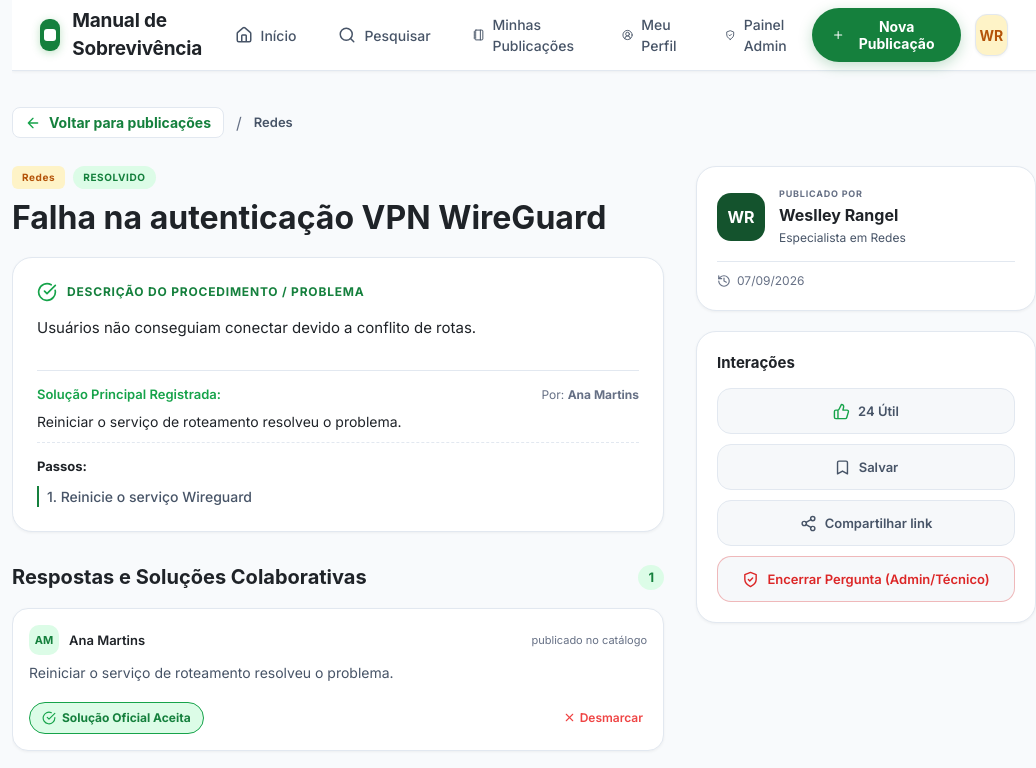
PublicationDetail Page › alterna o botão de Salvo/Salvar
The width and height of the screenshot is (1036, 768).
What coordinates should you click on to do the following:
click the button "Salvar"
I would click on:
 (866, 467)
Its box is [717,444,1015,490].
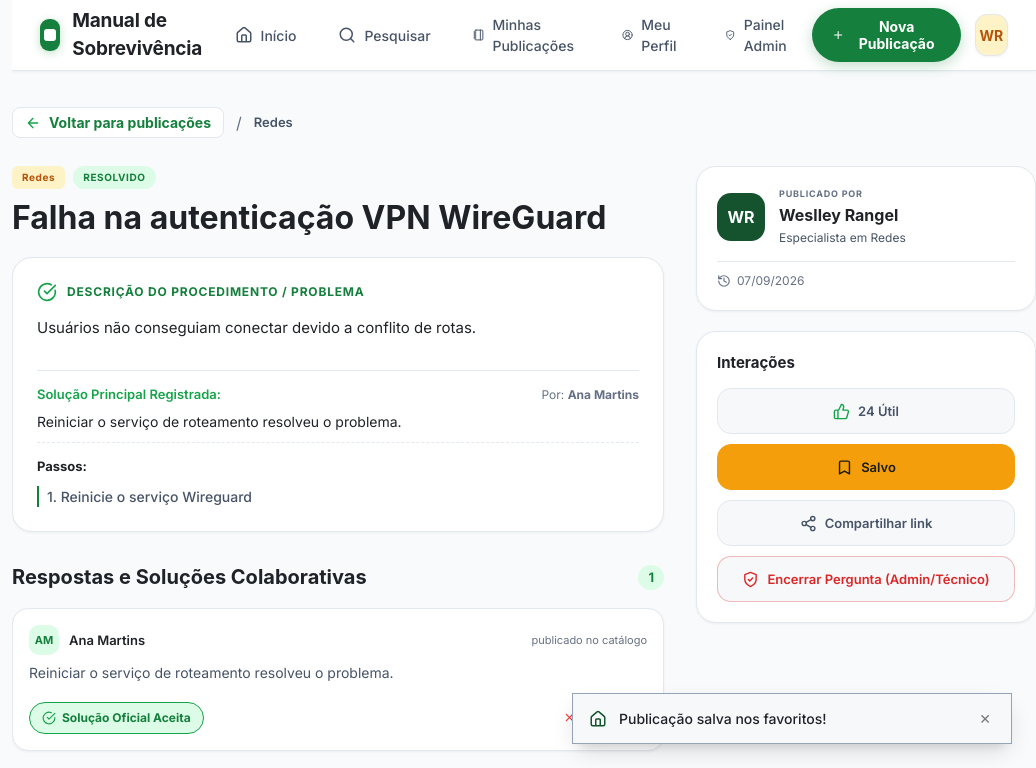
Check: the text "Salvo" is shown, box [861,459,896,475]
